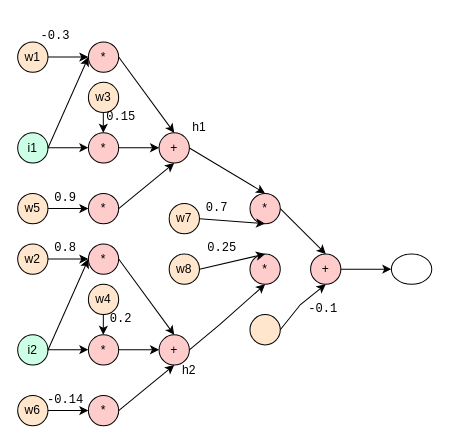
Image size: 449x443. Some labels were removed from this diagram. Each missing label, with the box of its shape:
w9: (249, 314, 280, 345)
y_pred: (390, 253, 432, 284)
